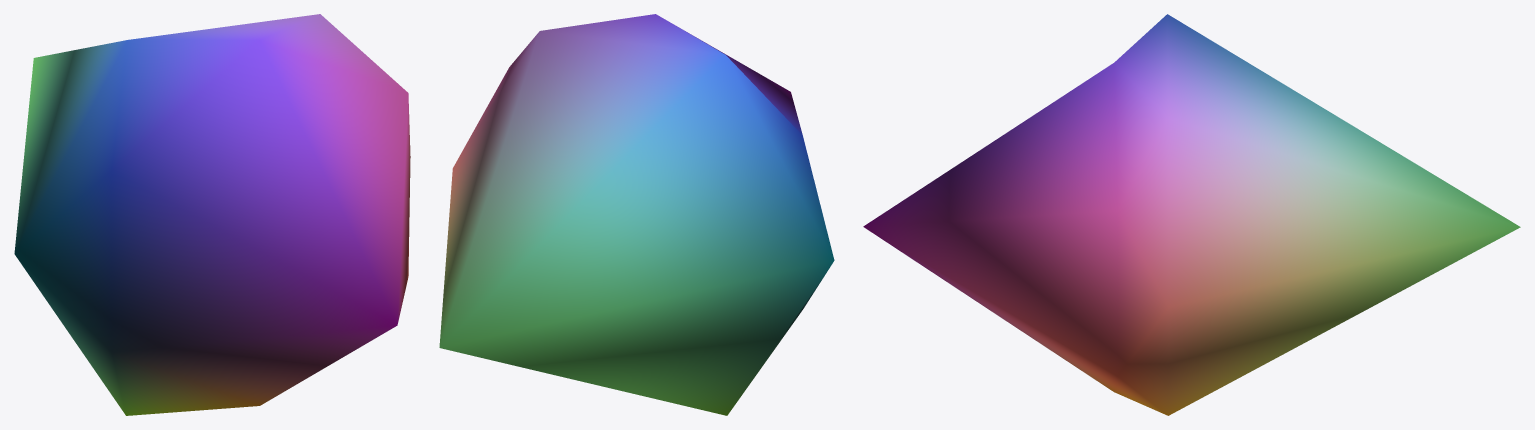
Rendered from SM_Hero_Mage_Crystal.fbx.
3 views of the same model, side by side, from view 1: azimuth 30°, elevation 25°; view 2: azimuth 150°, elevation 25°; view 3: azimuth 270°, elevation 25° (orthographic). The views are drawn at different scales.
Parts seen in each view (by area): view 1: SM_Hero_Mage_Crystal; view 2: SM_Hero_Mage_Crystal; view 3: SM_Hero_Mage_Crystal.
Boxes of the visible parts, bbox=[...] form: SM_Hero_Mage_Crystal: bbox=[14, 14, 410, 415]; SM_Hero_Mage_Crystal: bbox=[439, 14, 834, 415]; SM_Hero_Mage_Crystal: bbox=[863, 14, 1520, 415].
Size of the model in its own units: 0.1736 by 0.157 by 0.2765.
